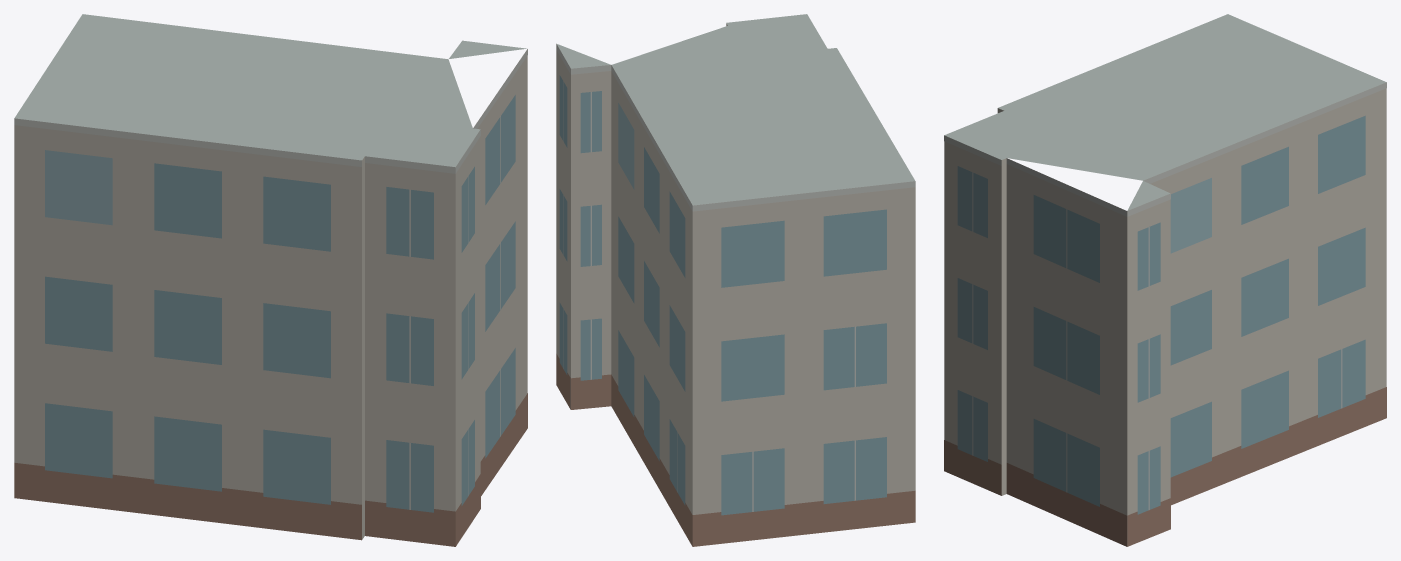
File: survey-upis-33026495.glb
The picture shows the model from 3 angles, left to right: view 1: azimuth 30°, elevation 25°; view 2: azimuth 150°, elevation 25°; view 3: azimuth 270°, elevation 25°; orthographic projection. The views are drawn at different scales.
Parts seen in each view (by area): view 1: survey-upis-33026495.tmp; view 2: survey-upis-33026495.tmp; view 3: survey-upis-33026495.tmp.
Boxes of the visible parts, box(x1,y1,x2,y2) form: survey-upis-33026495.tmp: box(14, 14, 527, 546); survey-upis-33026495.tmp: box(556, 14, 915, 546); survey-upis-33026495.tmp: box(944, 14, 1386, 546).
Bounding box in the file's own units: 17.43 × 13.85 × 16.55.
